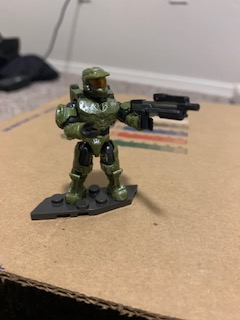chief: (53, 66, 136, 203)
rifle: (128, 94, 202, 135)
spartan: (51, 64, 134, 201)
